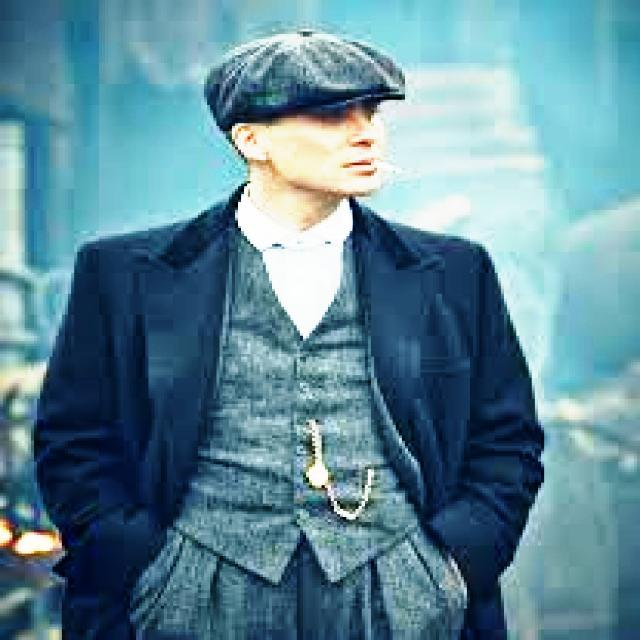TOPI: (195, 21, 408, 123)
